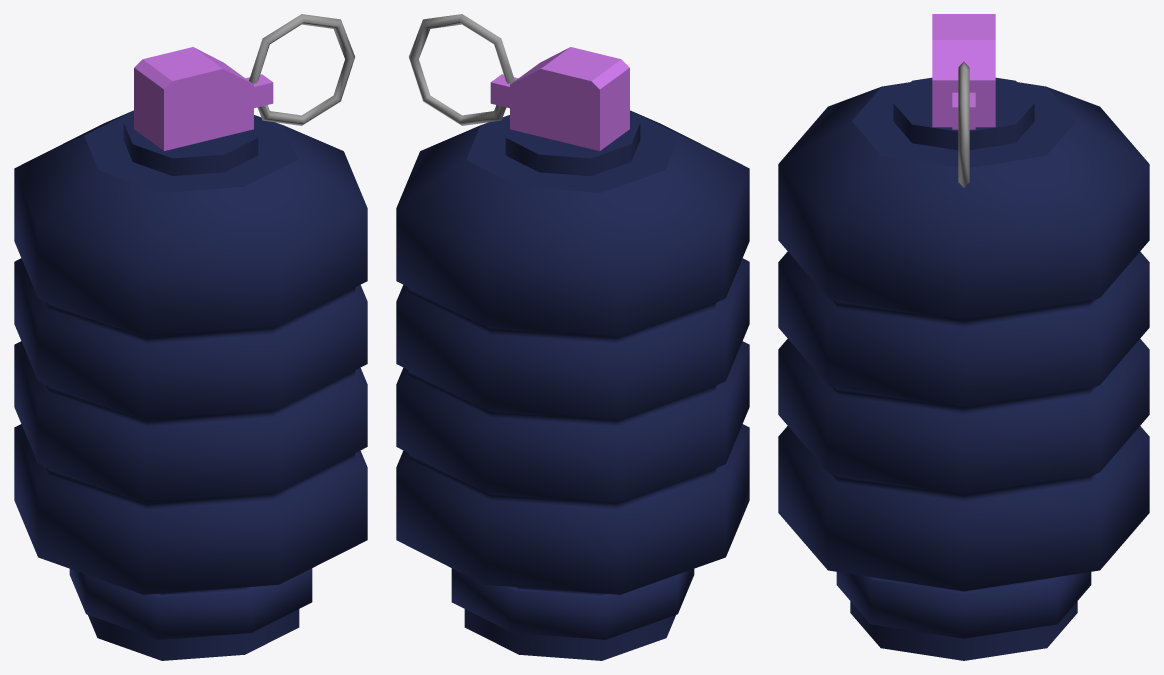
The model's file is EMP_Grenade.fbx.
The picture shows the model from 3 angles, left to right: view 1: azimuth 30°, elevation 25°; view 2: azimuth 150°, elevation 25°; view 3: azimuth 270°, elevation 25°; orthographic projection. The views are drawn at different scales.
Parts seen in each view (by area): view 1: Plane, Cube.001, Plane.001; view 2: Plane, Cube.001, Plane.001; view 3: Plane, Cube.001, Plane.001.
Boxes of the visible parts, x1,y1,x2,y2 form: Plane: (14, 110, 367, 660); Cube.001: (134, 47, 273, 150); Plane.001: (249, 14, 354, 125); Plane: (396, 110, 749, 660); Cube.001: (490, 47, 629, 150); Plane.001: (409, 14, 514, 125); Plane: (778, 77, 1149, 660); Cube.001: (932, 14, 995, 129); Plane.001: (958, 62, 969, 187).
Bounding box in the file's own units: 7.77 × 13.44 × 7.49.
